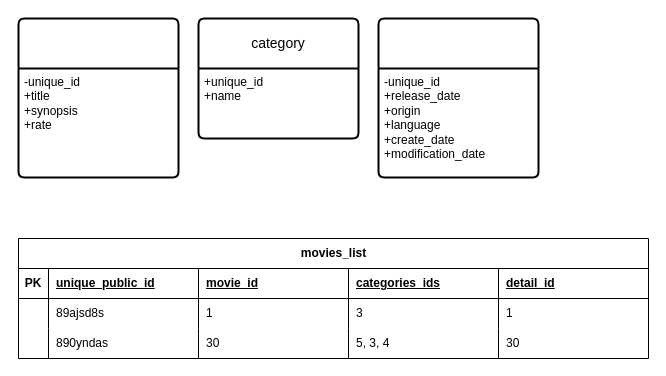
The diagram is 666 pixels wide and 376 high, and some of its shapes have lost their labels. Here are the shapes that lost their labels. From the top down, the box of each, then its label:
(17, 17, 179, 178): movie
(377, 17, 539, 178): detail
